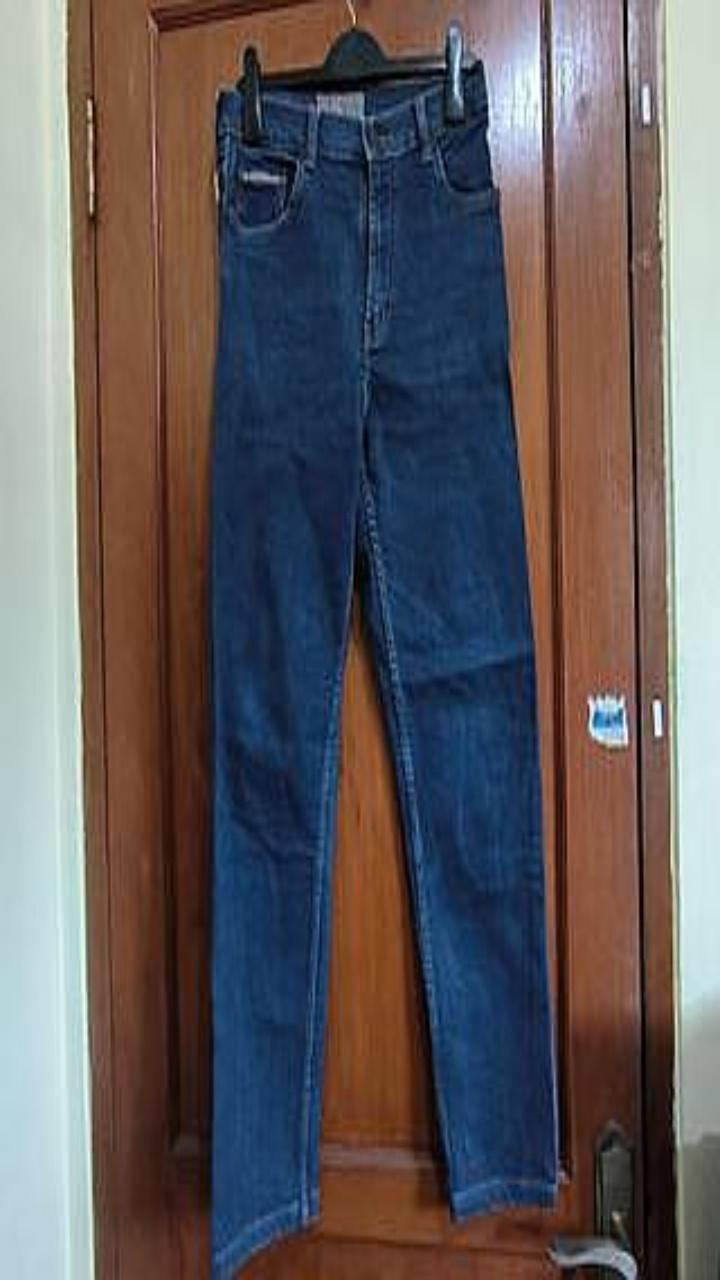Jeans: (210, 62, 557, 1279)
